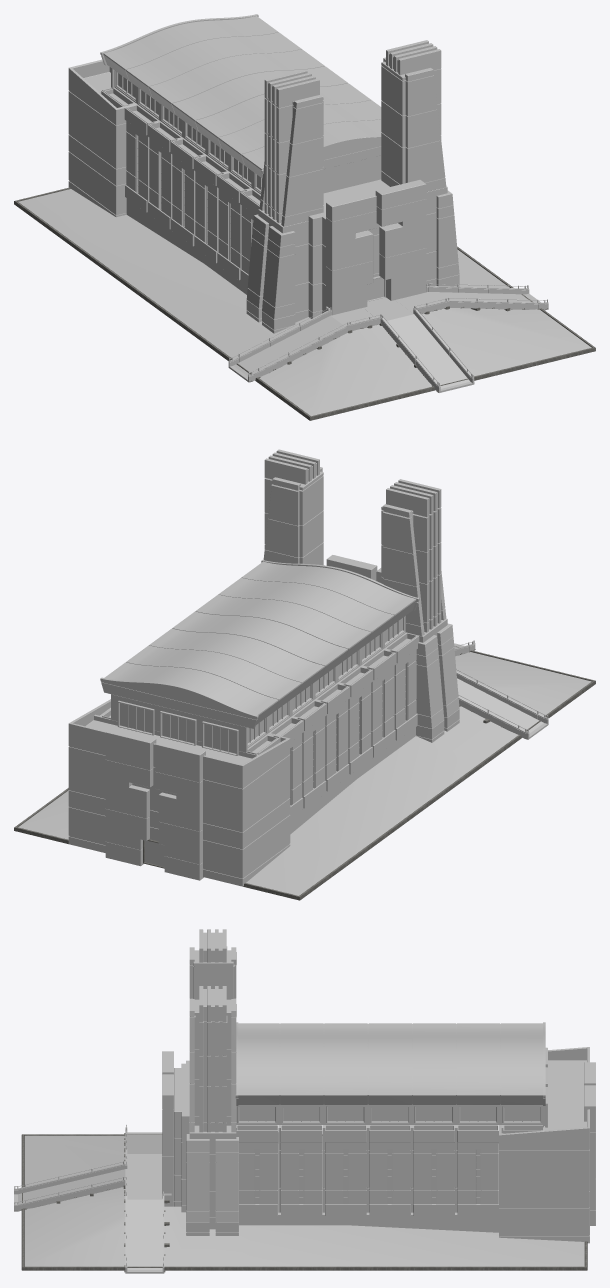
The model's file is Kitbash3D_Brutalist_Building03.fbx.
3 views of the same model, one above another, from view 1: azimuth 30°, elevation 25°; view 2: azimuth 150°, elevation 25°; view 3: azimuth 270°, elevation 25° (orthographic). The views are drawn at different scales.
Parts seen in each view (by area): view 1: M_Bldg_D_Bldg_Clean, M_Bldg_D_Base_Stone, M_Bldg_D_Bldg_Dirty, M_Bldg_D_Roof_Top, M_Bldg_D_StoneFloor, M_Bldg_D_ConcFormHoles, M_Bldg_D_Base_Border, M_Bldg_D_Mull_Rails_WinFrames, M_Bldg_D_Window; view 2: M_Bldg_D_Bldg_Dirty, M_Bldg_D_Bldg_Clean, M_Bldg_D_Roof_Top, M_Bldg_D_Base_Stone, M_Bldg_D_Window, M_Bldg_D_Mull_Rails_WinFrames, M_Bldg_D_Base_Border, M_Bldg_D_ConcFormHoles, M_Bldg_D_StoneFloor; view 3: M_Bldg_D_Bldg_Dirty, M_Bldg_D_Base_Stone, M_Bldg_D_Roof_Top, M_Bldg_D_Bldg_Clean, M_Bldg_D_StoneFloor, M_Bldg_D_Window, M_Bldg_D_Mull_Rails_WinFrames, M_Bldg_D_Base_Border, M_Bldg_D_ConcFormHoles.
Boxes of the visible parts, x1,y1,x2,y2 form: M_Bldg_D_Bldg_Clean: (98,14,447,322); M_Bldg_D_Base_Stone: (18,189,591,416); M_Bldg_D_Bldg_Dirty: (68,55,459,333); M_Bldg_D_Roof_Top: (103,16,381,169); M_Bldg_D_StoneFloor: (233,292,535,388); M_Bldg_D_ConcFormHoles: (228,286,548,392); M_Bldg_D_Base_Border: (14,187,595,420); M_Bldg_D_Mull_Rails_WinFrames: (116,71,547,385); M_Bldg_D_Window: (118,73,262,196); M_Bldg_D_Bldg_Dirty: (68,601,459,886); M_Bldg_D_Bldg_Clean: (94,449,447,880); M_Bldg_D_Roof_Top: (104,561,416,715); M_Bldg_D_Base_Stone: (18,652,591,895); M_Bldg_D_Window: (120,618,405,787); M_Bldg_D_Mull_Rails_WinFrames: (117,616,548,805); M_Bldg_D_Base_Border: (14,646,595,900); M_Bldg_D_ConcFormHoles: (454,643,548,739); M_Bldg_D_StoneFloor: (454,645,543,733); M_Bldg_D_Bldg_Dirty: (186,1047,589,1243); M_Bldg_D_Base_Stone: (24,1135,584,1266); M_Bldg_D_Roof_Top: (238,1023,542,1095); M_Bldg_D_Bldg_Clean: (162,929,595,1229); M_Bldg_D_StoneFloor: (18,1133,162,1269); M_Bldg_D_Window: (239,1107,540,1204); M_Bldg_D_Mull_Rails_WinFrames: (14,1047,547,1266); M_Bldg_D_Base_Border: (21,1134,587,1270); M_Bldg_D_ConcFormHoles: (14,1127,171,1273).
Size of the model in its own units: 38.58 by 30.74 by 67.93.
